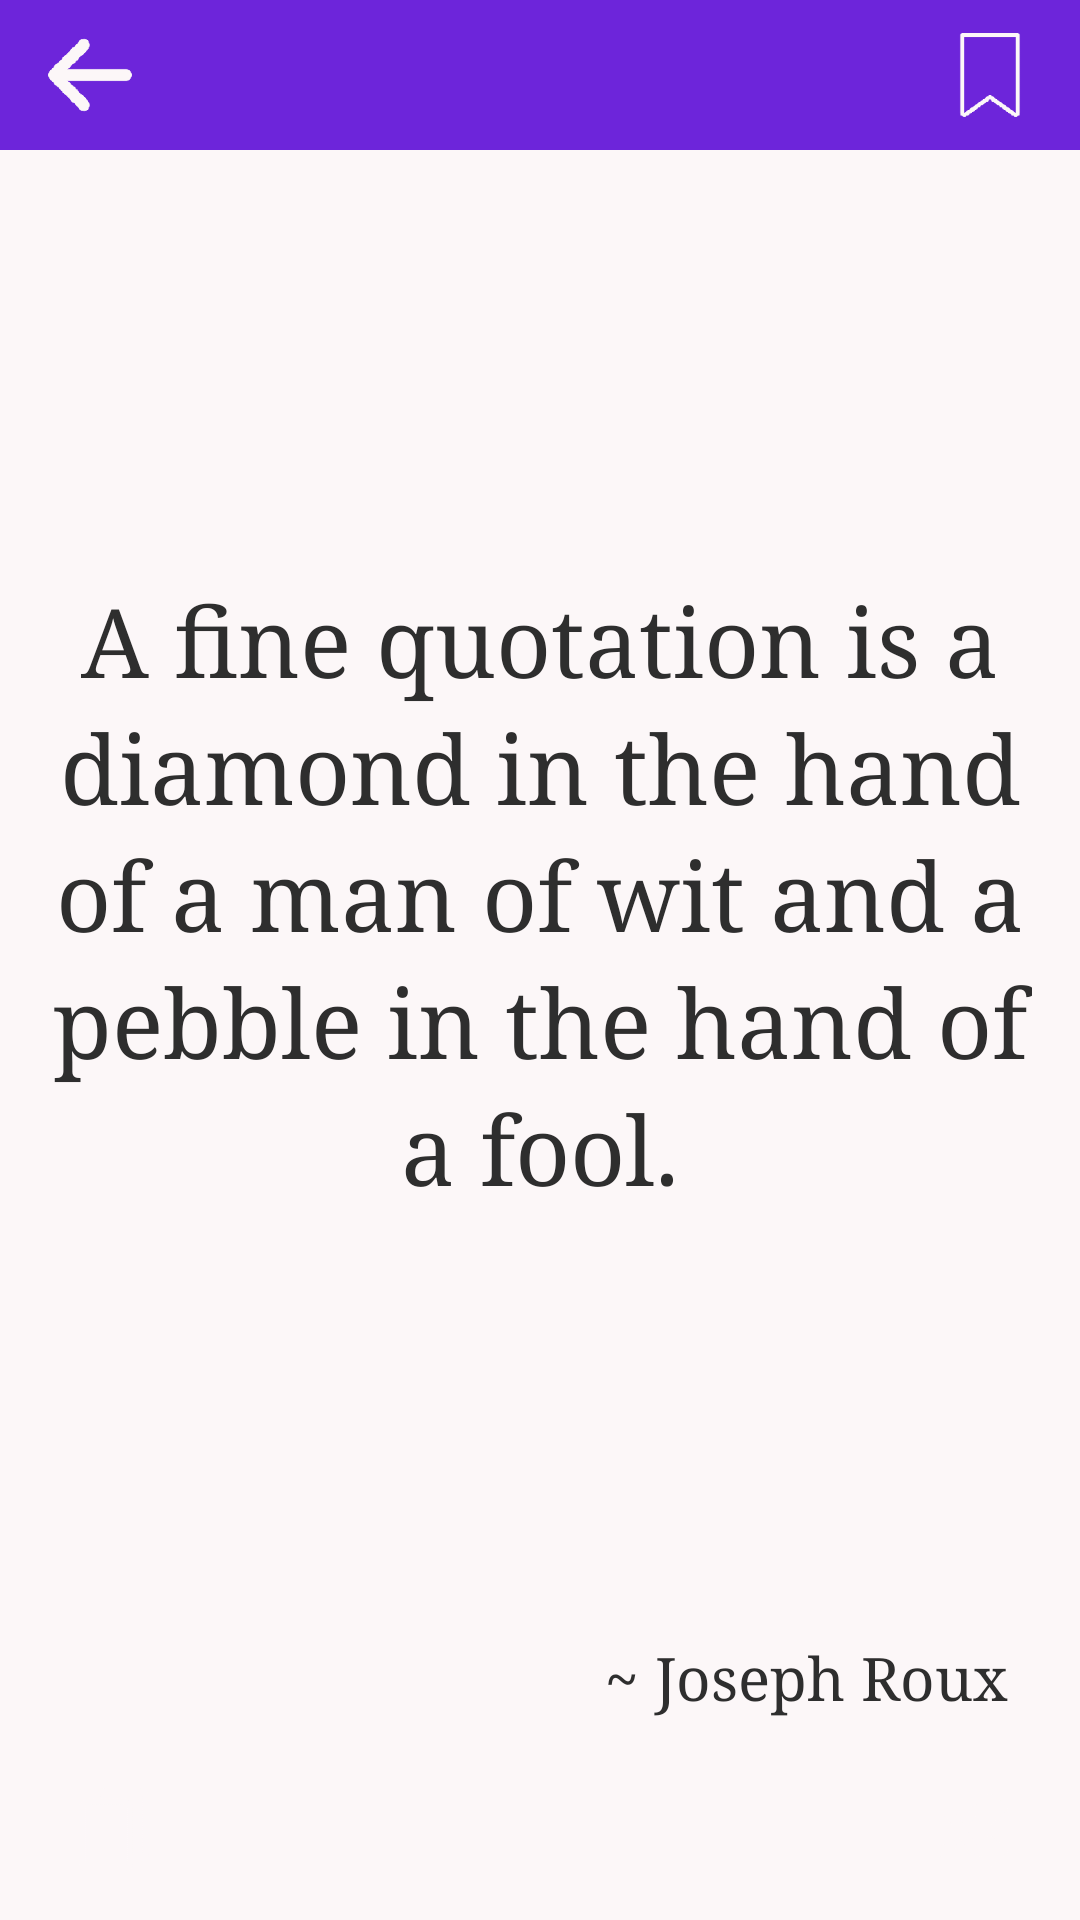

Icons on this 1080 × 1920 Android screen, each with the point to tap as [x,y]:
add to favorites button: [990,75]
up button: [90,75]
